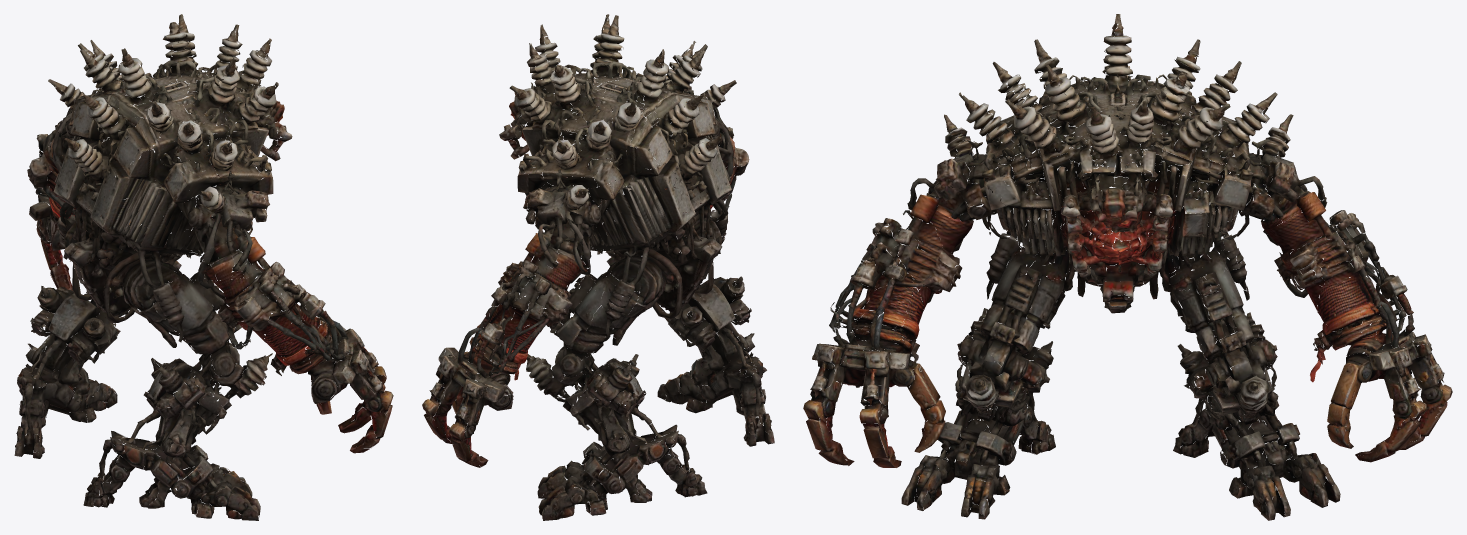
Rendered from tb_relay.glb.
3 views of the same model, side by side, from view 1: azimuth 30°, elevation 25°; view 2: azimuth 150°, elevation 25°; view 3: azimuth 270°, elevation 25° (orthographic). The views are drawn at different scales.
Parts seen in each view (by area): view 1: tripo_node_d490971f-821a-4e87-a0fa-82be15bcc9cc; view 2: tripo_node_d490971f-821a-4e87-a0fa-82be15bcc9cc; view 3: tripo_node_d490971f-821a-4e87-a0fa-82be15bcc9cc.
Part boxes in pixels (box(x1,y1,x2,y2)): tripo_node_d490971f-821a-4e87-a0fa-82be15bcc9cc: box(14, 14, 393, 520); tripo_node_d490971f-821a-4e87-a0fa-82be15bcc9cc: box(422, 14, 774, 520); tripo_node_d490971f-821a-4e87-a0fa-82be15bcc9cc: box(803, 14, 1452, 520).
Size of the model in its own units: 0.4616 by 0.7901 by 0.9802.
Materials: 1 (1 with a texture image).
